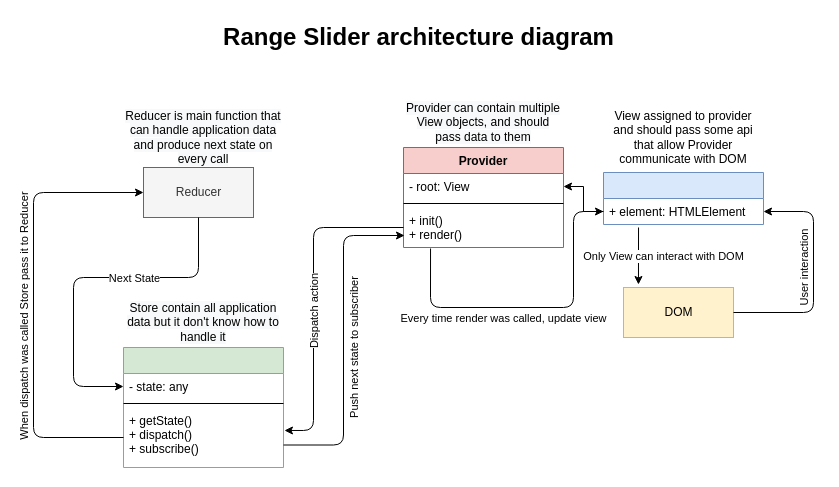
Image size: 839x487. Some labels were removed from this diagram. The shapes that lost their labels are listed below. From the top down, each one's box as (x1, y1, x2, y2) in pixels, then its label:
(602, 172, 764, 224): View
(122, 346, 284, 468): Store
